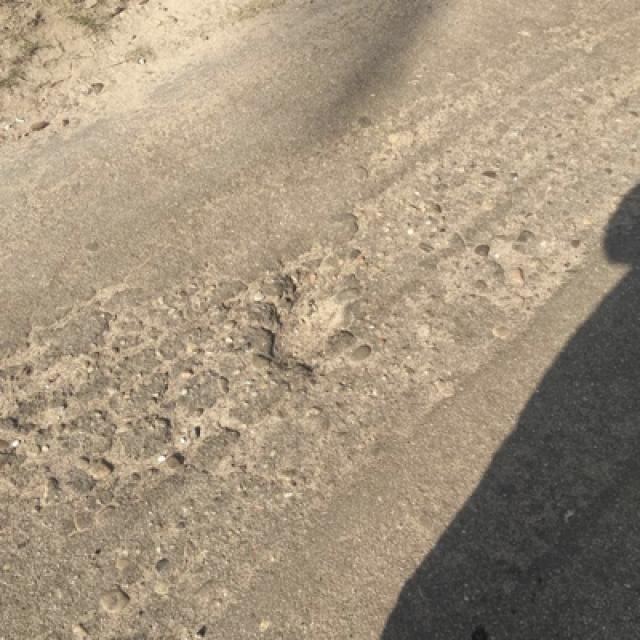jalan_berlubang: (256, 276, 350, 358)
